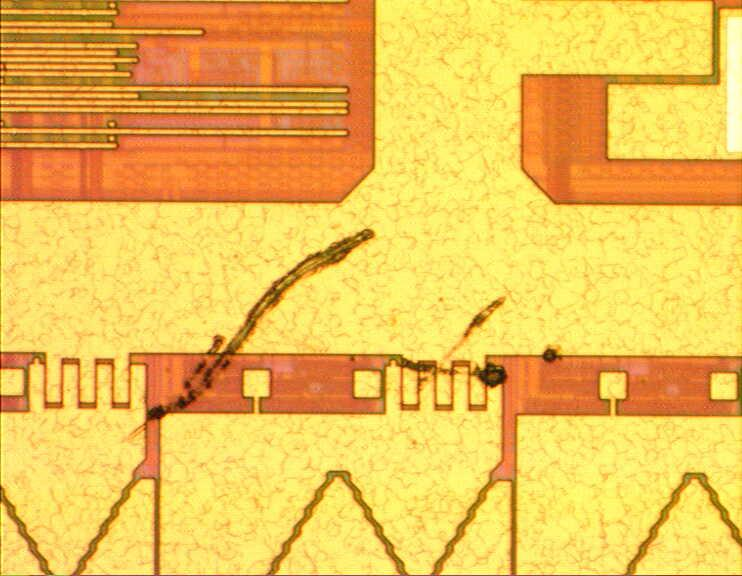SCRATCH: (116, 225, 572, 451)
